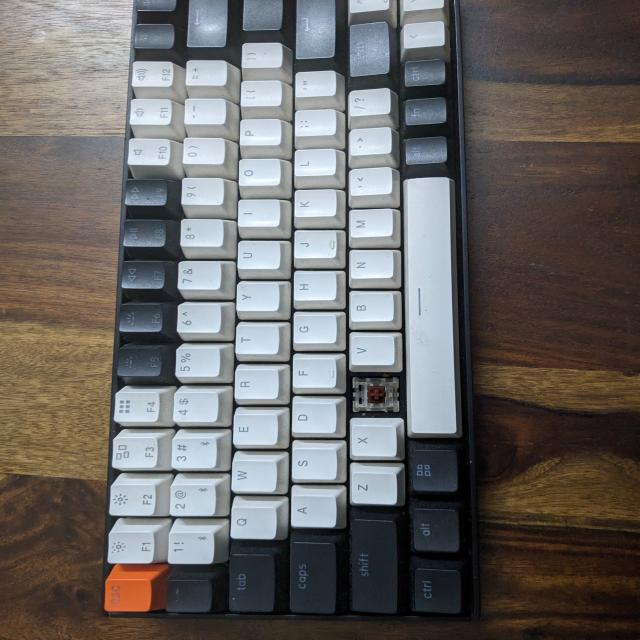C: (350, 376, 400, 413)
